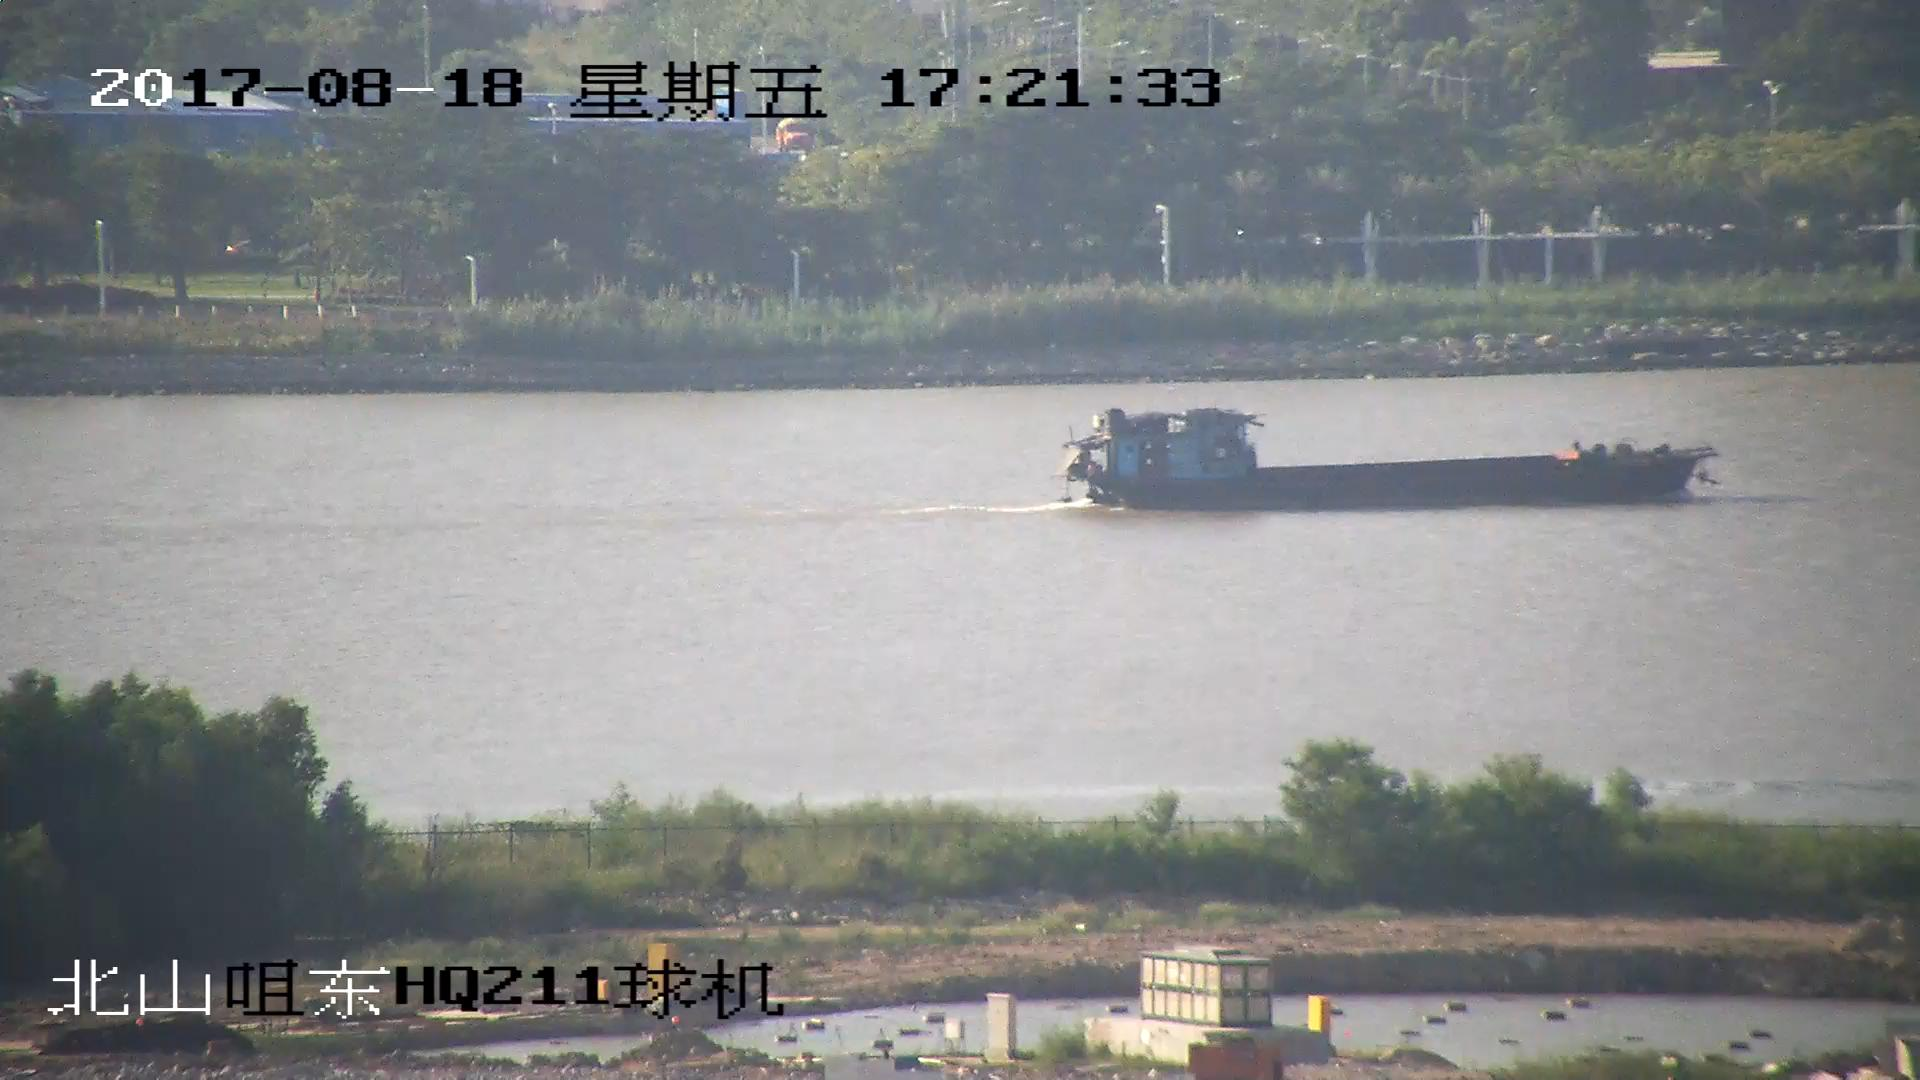bulk cargo carrier: (1057, 414, 1718, 512)
